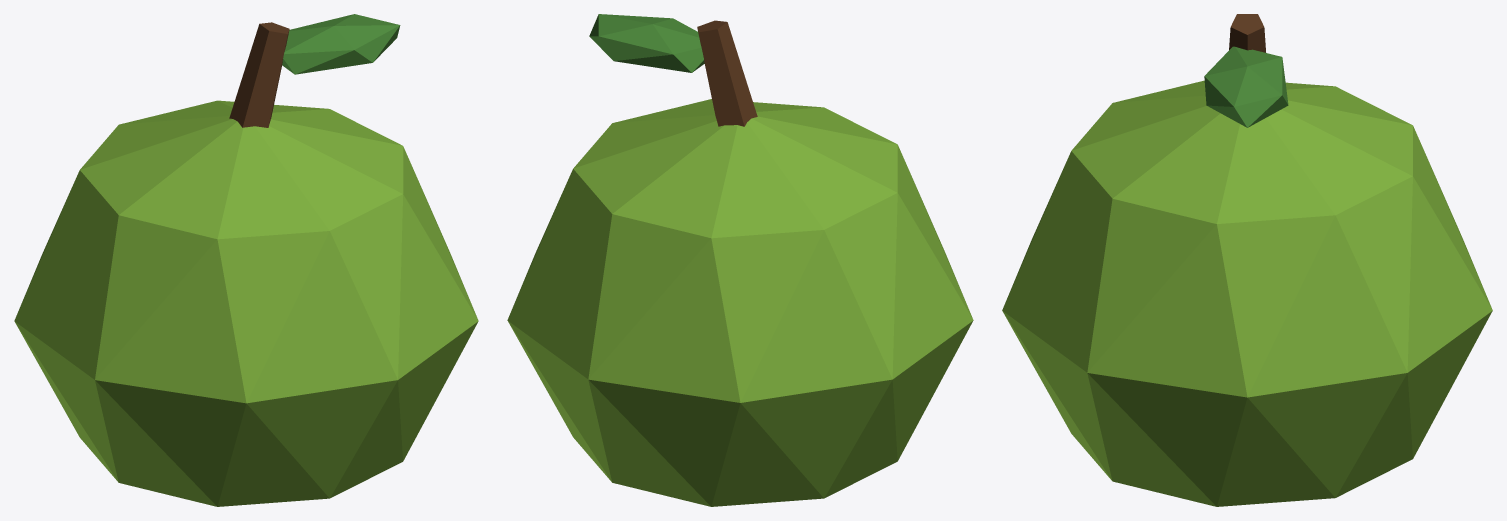
Rendered from drop_apple.glb.
3 renders of one model, left to right at view 1: azimuth 30°, elevation 25°; view 2: azimuth 150°, elevation 25°; view 3: azimuth 270°, elevation 25°, orthographic. The views are drawn at different scales.
Visible parts, largest first — view 1: drop_apple; view 2: drop_apple; view 3: drop_apple.
Boxes of the visible parts, x1,y1,x2,y2 form: drop_apple: (14, 14, 478, 506); drop_apple: (507, 14, 973, 506); drop_apple: (1002, 14, 1492, 506).
Bounding box in the file's own units: 0.1358 × 0.1511 × 0.1379.
